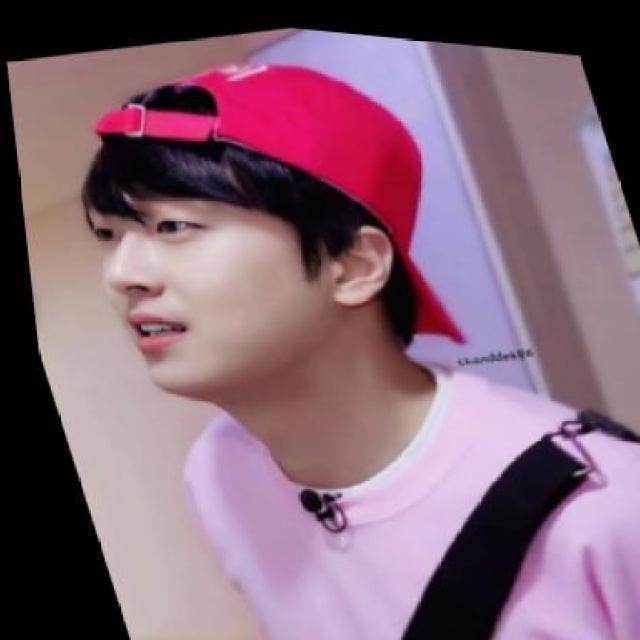hat: (65, 8, 452, 301)
